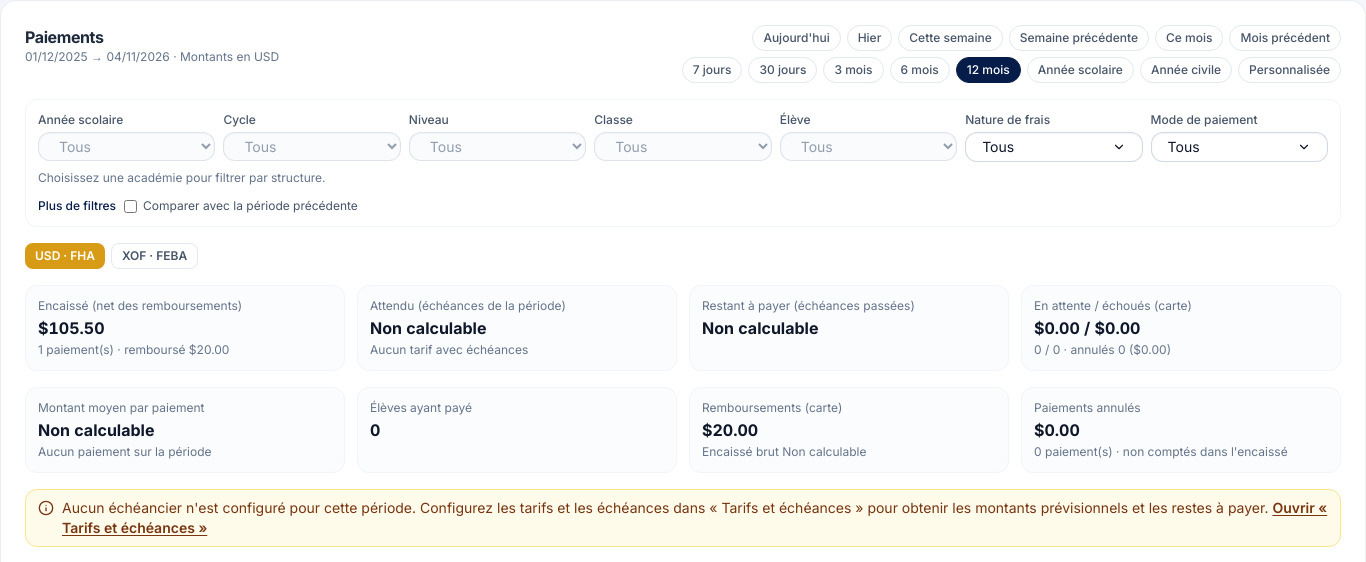
Scenario: graphique des paiements › affiche les indicateurs du serveur, devise par devise, sans additionner XOF et USD
Expected: the element with test id "ind-encaisse" is shown, [25,285,345,371]
Expected: the element with test id "ind-encaisse" reads "Encaissé (net des remboursements) $105.50 1 paiement(s) · remboursé $20.00", [38,318,104,338]
Step 1. Click the button with test id "devise-XOF" → (154, 256), box [111,243,198,269]
(page scrolled)
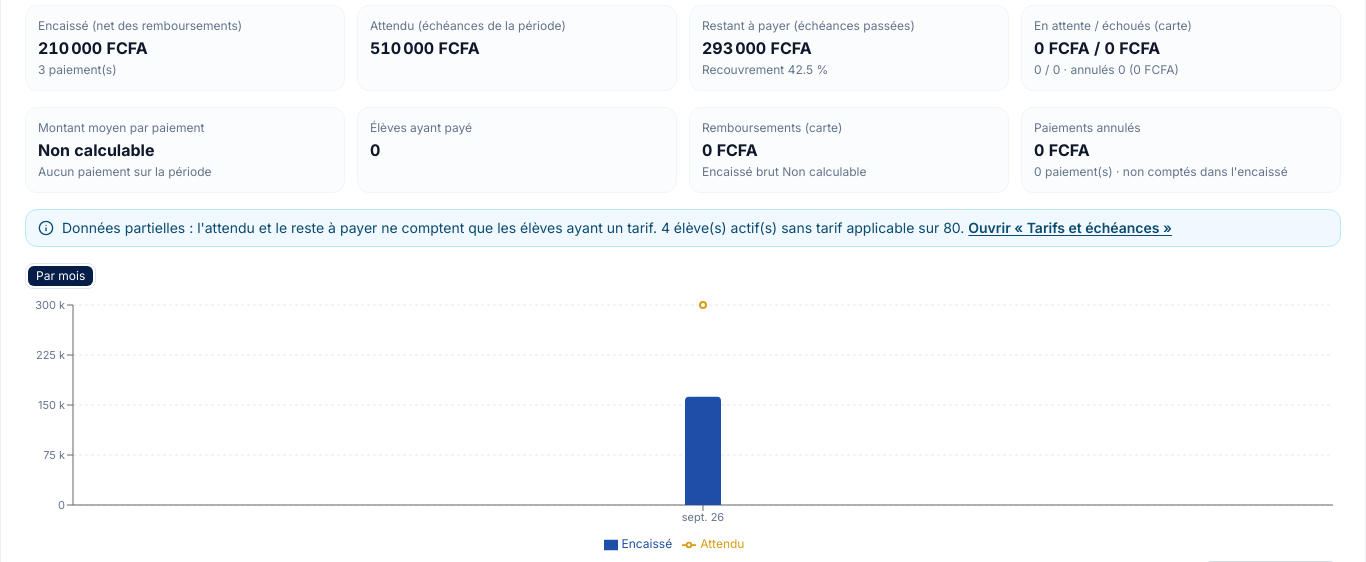
Result: the element with test id "ind-encaisse" reads "Encaissé (net des remboursements) 210 000 FCFA 3 paiement(s)" at [38,38,148,58]
Result: the element with test id "ind-restant" reads "Restant à payer (échéances passées) 293 000 FCFA Recouvrement 42.5 %" at [689,5,1009,91]
